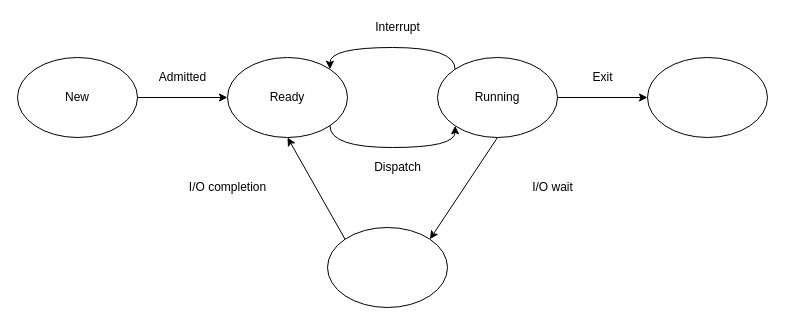
Some shapes in this 785 by 325 pixel diagram are drawn without their labels. The shapes that lost their labels are listed below. From the top down, each one's box as (x1, y1, x2, y2) in pixels, then its label:
(646, 56, 768, 138): Terminated
(326, 226, 448, 308): Waiting
